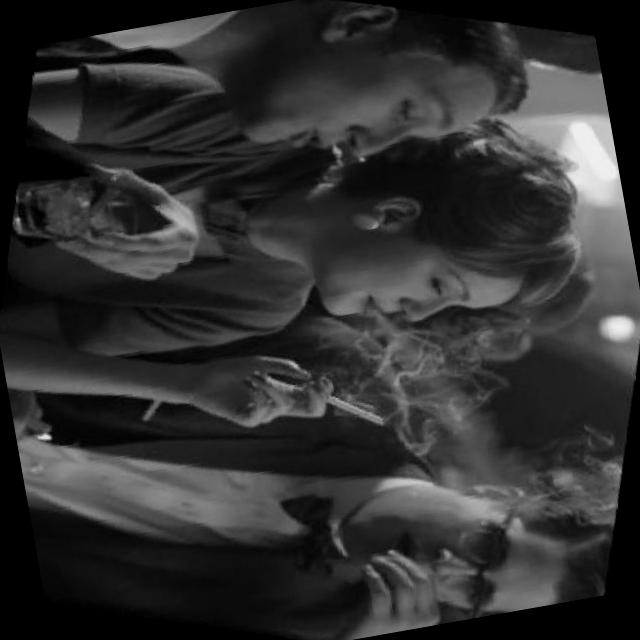cigarette: (317, 379, 397, 439)
